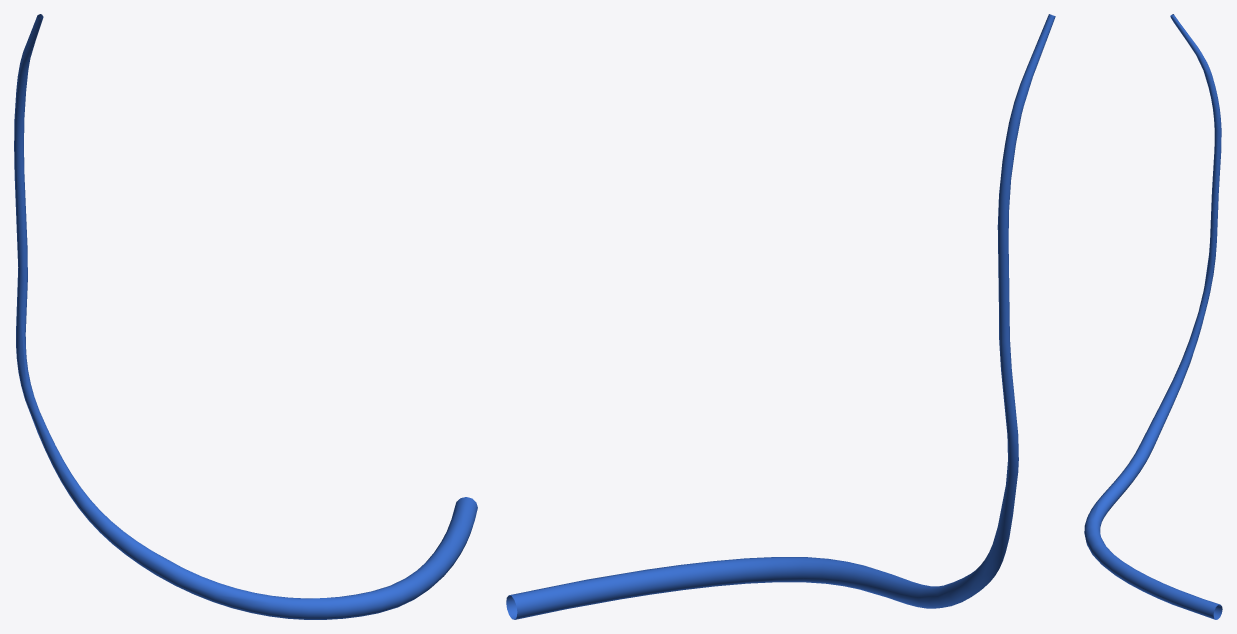
The model's file is circulatorio-anterior-jugular-vein-l.glb.
The picture shows the model from 3 angles, left to right: view 1: azimuth 30°, elevation 25°; view 2: azimuth 150°, elevation 25°; view 3: azimuth 270°, elevation 25°; orthographic projection. The views are drawn at different scales.
Parts seen in each view (by area): view 1: Anterior jugular vein.l; view 2: Anterior jugular vein.l; view 3: Anterior jugular vein.l.
Boxes of the visible parts, box(x1,y1,x2,y2) form: Anterior jugular vein.l: box(14, 14, 477, 619); Anterior jugular vein.l: box(506, 14, 1055, 619); Anterior jugular vein.l: box(1084, 14, 1222, 619).
Size of the model in its own units: 0.0329 by 0.0427 by 0.0119.
